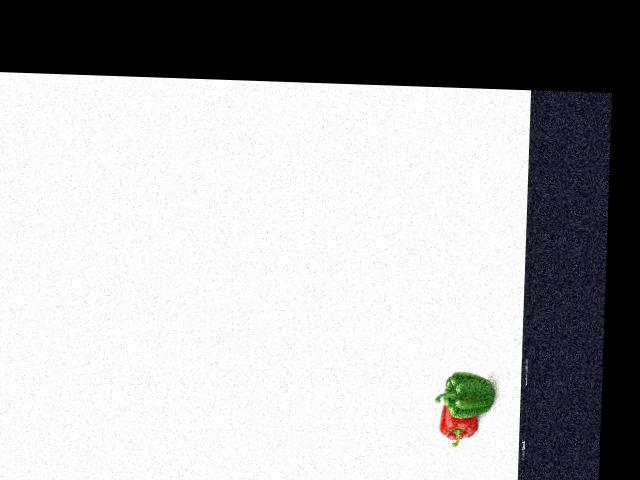bell_pepper: (433, 403, 477, 447)
